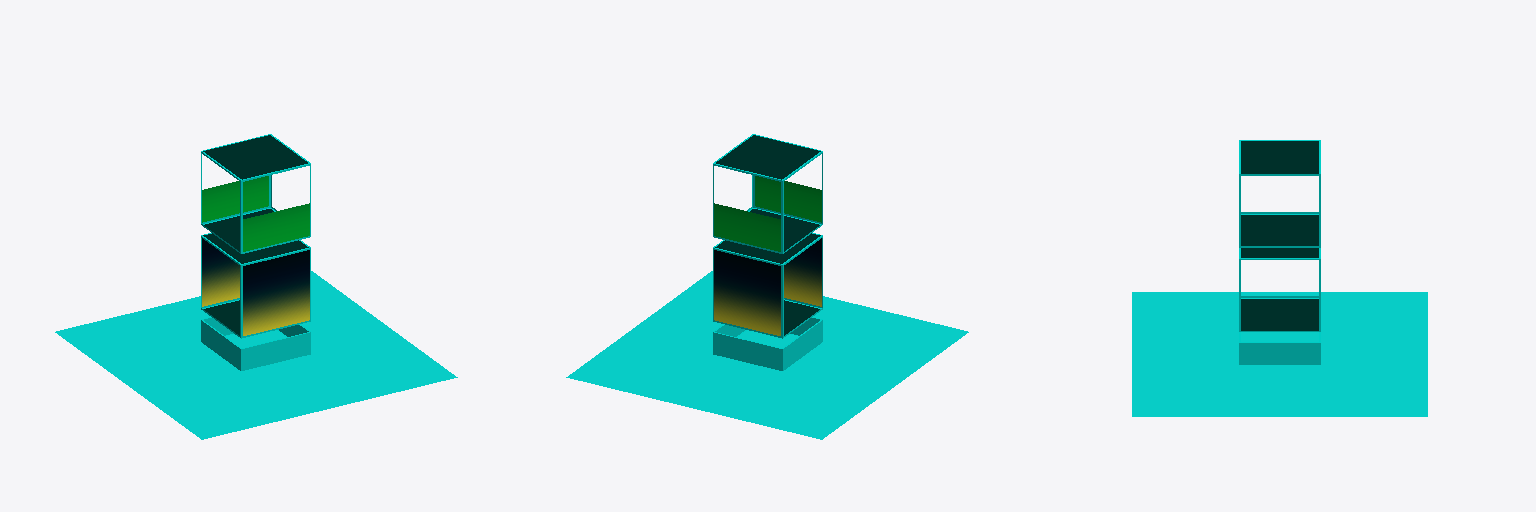
3 views of the same model, side by side, from view 1: azimuth 30°, elevation 25°; view 2: azimuth 150°, elevation 25°; view 3: azimuth 270°, elevation 25° (orthographic).
Parts seen in each view (by area): view 1: Mesh8 Group8 __1 Model, Mesh2 Group2 Model, Mesh3 Group3 Model, Mesh1 Group1 Model; view 2: Mesh8 Group8 __1 Model, Mesh2 Group2 Model, Mesh3 Group3 Model, Mesh1 Group1 Model; view 3: Mesh8 Group8 __1 Model, Mesh3 Group3 Model, Mesh2 Group2 Model, Mesh1 Group1 Model.
Boxes of the visible parts, <box> form: Mesh8 Group8 __1 Model: <box>55,271,457,439</box>; Mesh2 Group2 Model: <box>201,233,310,338</box>; Mesh3 Group3 Model: <box>201,134,310,253</box>; Mesh1 Group1 Model: <box>201,317,310,370</box>; Mesh8 Group8 __1 Model: <box>566,271,968,439</box>; Mesh2 Group2 Model: <box>713,233,822,338</box>; Mesh3 Group3 Model: <box>713,134,822,253</box>; Mesh1 Group1 Model: <box>713,317,822,370</box>; Mesh8 Group8 __1 Model: <box>1132,292,1427,416</box>; Mesh3 Group3 Model: <box>1239,140,1320,247</box>; Mesh2 Group2 Model: <box>1239,248,1320,331</box>; Mesh1 Group1 Model: <box>1239,332,1320,364</box>.
Bounding box in the file's own units: 202 × 148 × 202.
Materials: 10 (8 with a texture image).